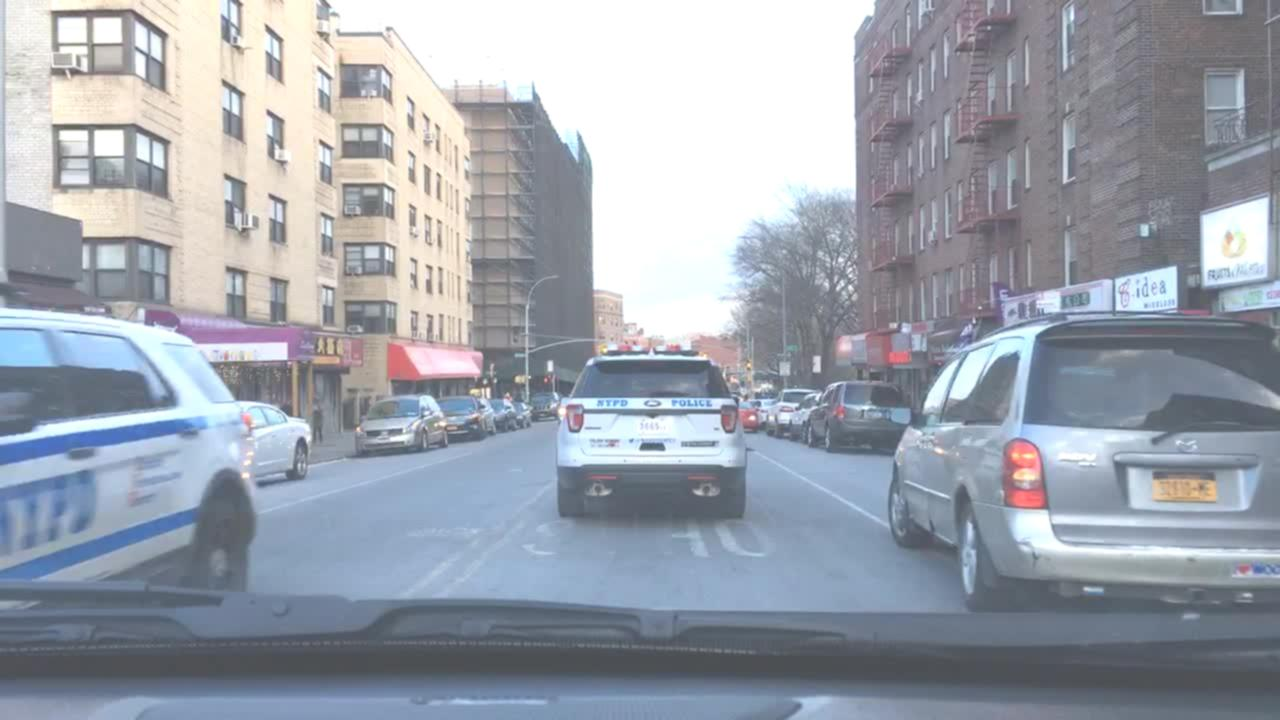Mazda: (1173, 426, 1204, 460)
ford: (642, 399, 665, 408)
